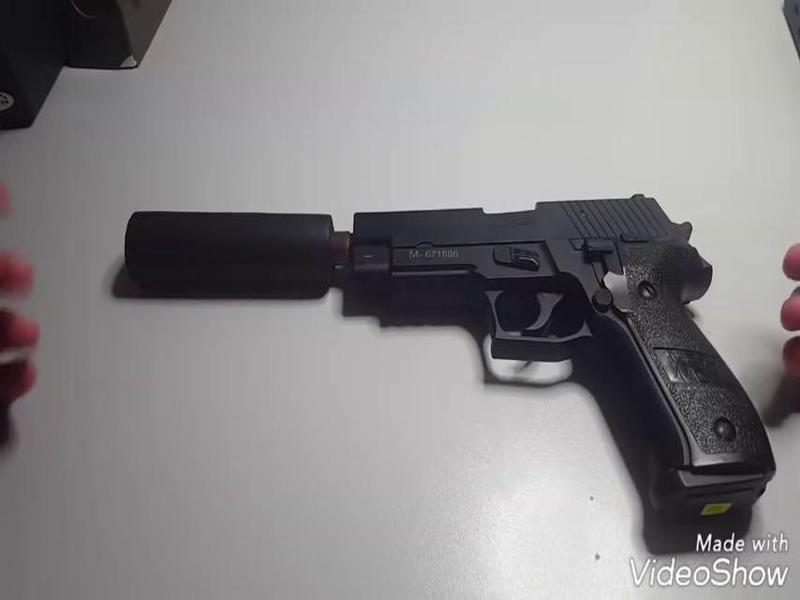Pistola: (344, 182, 781, 522)
